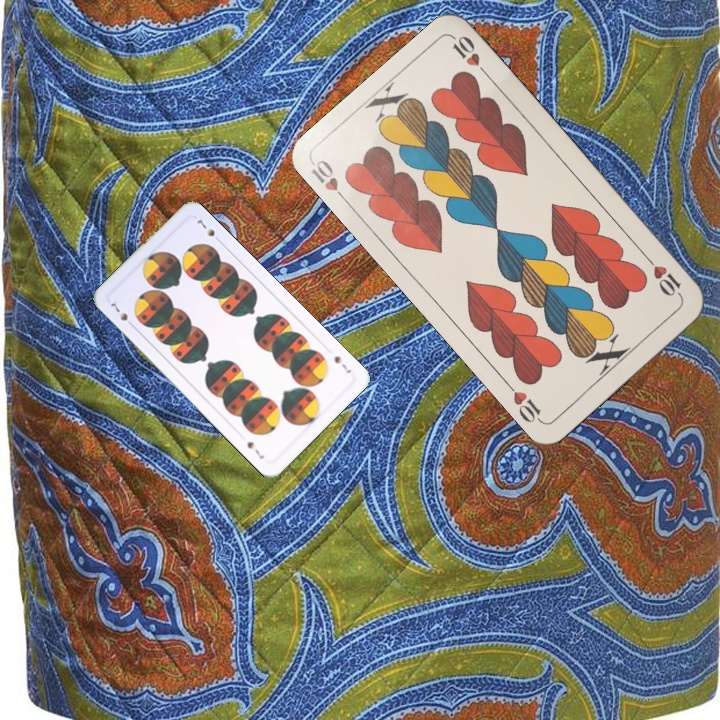H10: (307, 155, 352, 207), (641, 252, 685, 300)
S7: (107, 299, 137, 330), (330, 351, 354, 376)
